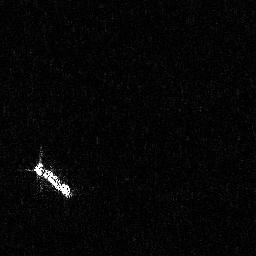ship: (24, 146, 75, 201)
